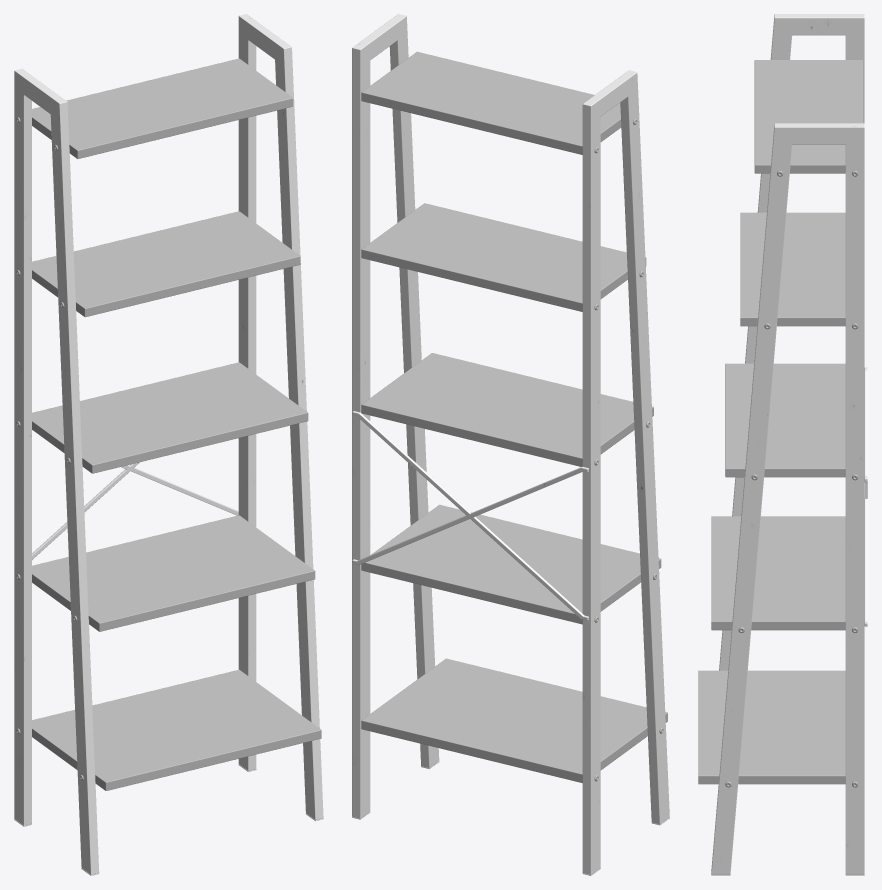
Rendered from shelf.obj.
3 renders of one model, left to right at view 1: azimuth 30°, elevation 25°; view 2: azimuth 150°, elevation 25°; view 3: azimuth 270°, elevation 25°, orthographic. The views are drawn at different scales.
Visible parts, largest first — view 1: Self_wood, Self_metal; view 2: Self_wood, Self_metal; view 3: Self_wood, Self_metal, Self_screws.
Boxes of the visible parts, <box> form: Self_wood: <box>32,58,321,790</box>; Self_metal: <box>14,14,323,874</box>; Self_wood: <box>361,51,667,782</box>; Self_metal: <box>352,14,669,874</box>; Self_wood: <box>698,60,863,784</box>; Self_metal: <box>711,14,867,874</box>; Self_screws: <box>725,170,858,787</box>.
Size of the model in its own units: 25.76 by 78.31 by 16.06.
